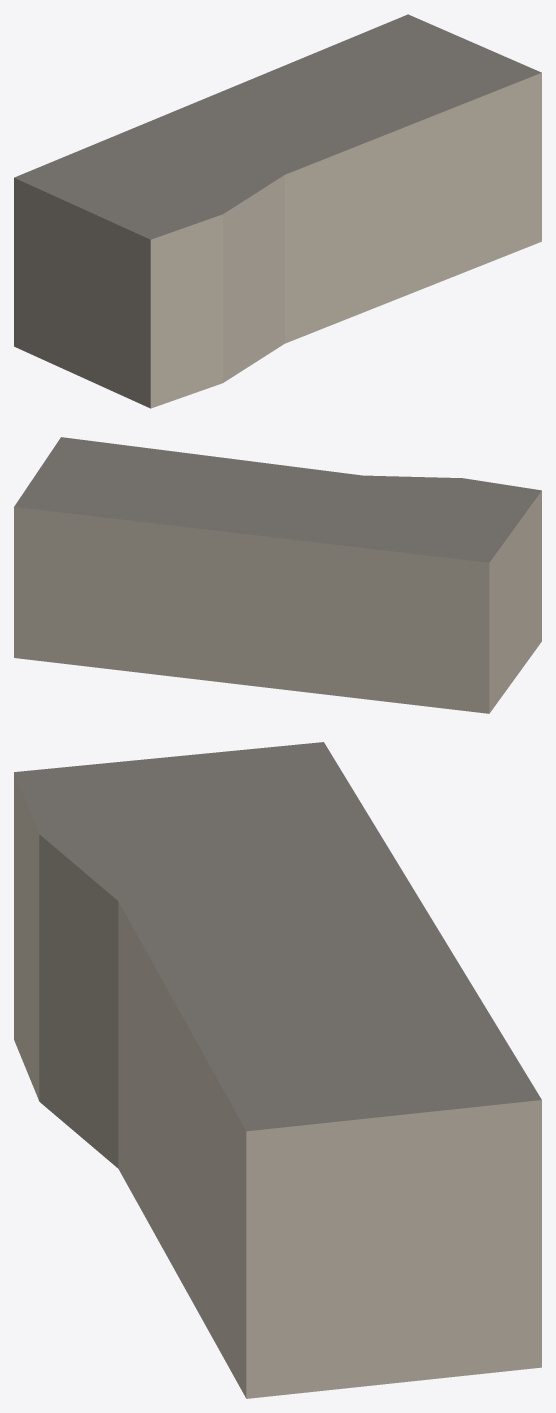
3 renders of one model, top to bottom at view 1: azimuth 30°, elevation 25°; view 2: azimuth 150°, elevation 25°; view 3: azimuth 270°, elevation 25°, orthographic. The views are drawn at different scales.
Parts seen in each view (by area): view 1: HP-w435452348; view 2: HP-w435452348; view 3: HP-w435452348.
Part boxes in pixels (x1,y1,x2,y2): HP-w435452348: [14, 14, 541, 408]; HP-w435452348: [14, 437, 541, 713]; HP-w435452348: [14, 742, 541, 1398].
Size of the model in its own units: 56.16 by 18 by 32.19.
